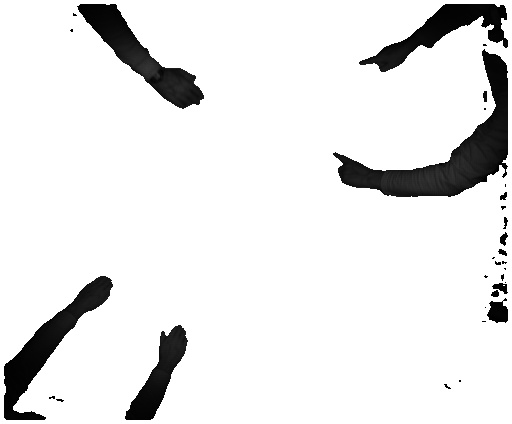hand: (328, 152, 379, 199), (154, 70, 207, 111), (352, 38, 409, 71), (75, 272, 119, 314), (156, 320, 191, 369)
